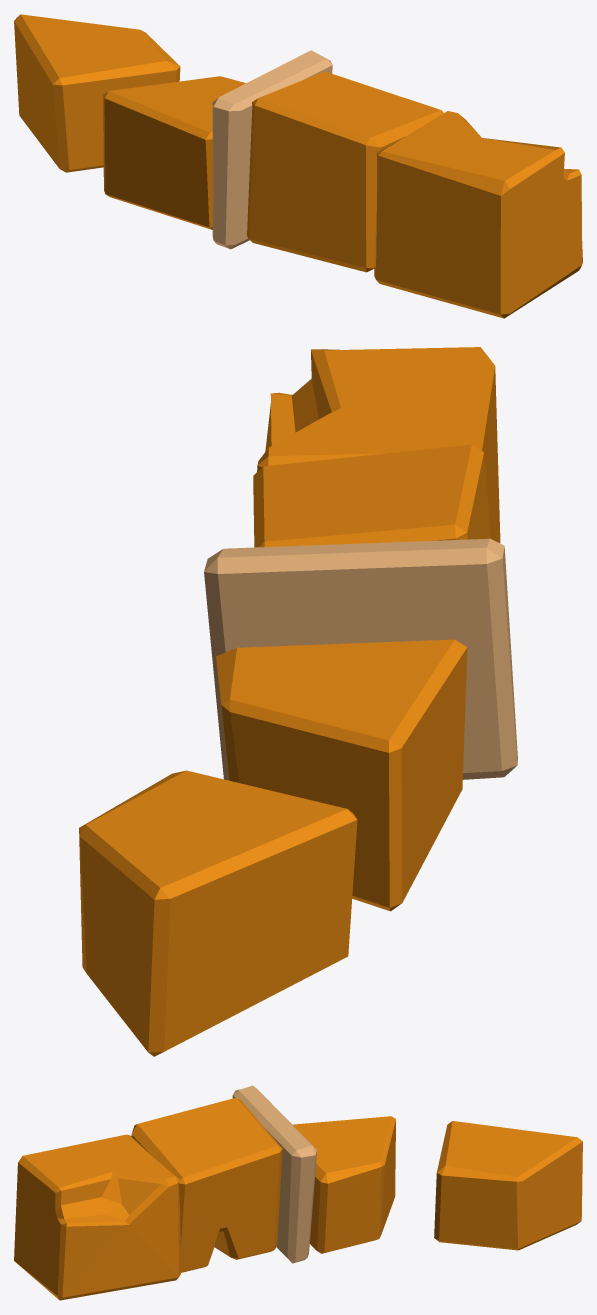
The model's file is Columna_caida.fbx.
The picture shows the model from 3 angles, top to bottom: view 1: azimuth 30°, elevation 25°; view 2: azimuth 150°, elevation 25°; view 3: azimuth 270°, elevation 25°; orthographic projection. The views are drawn at different scales.
Visible parts, largest first — view 1: Columna.007; view 2: Columna.007; view 3: Columna.007.
Boxes of the visible parts, x1,y1,x2,y2 form: Columna.007: (14,14,582,318); Columna.007: (79,347,517,1056); Columna.007: (14,1085,582,1300).
Size of the model in its own units: 360 by 199 by 747.
